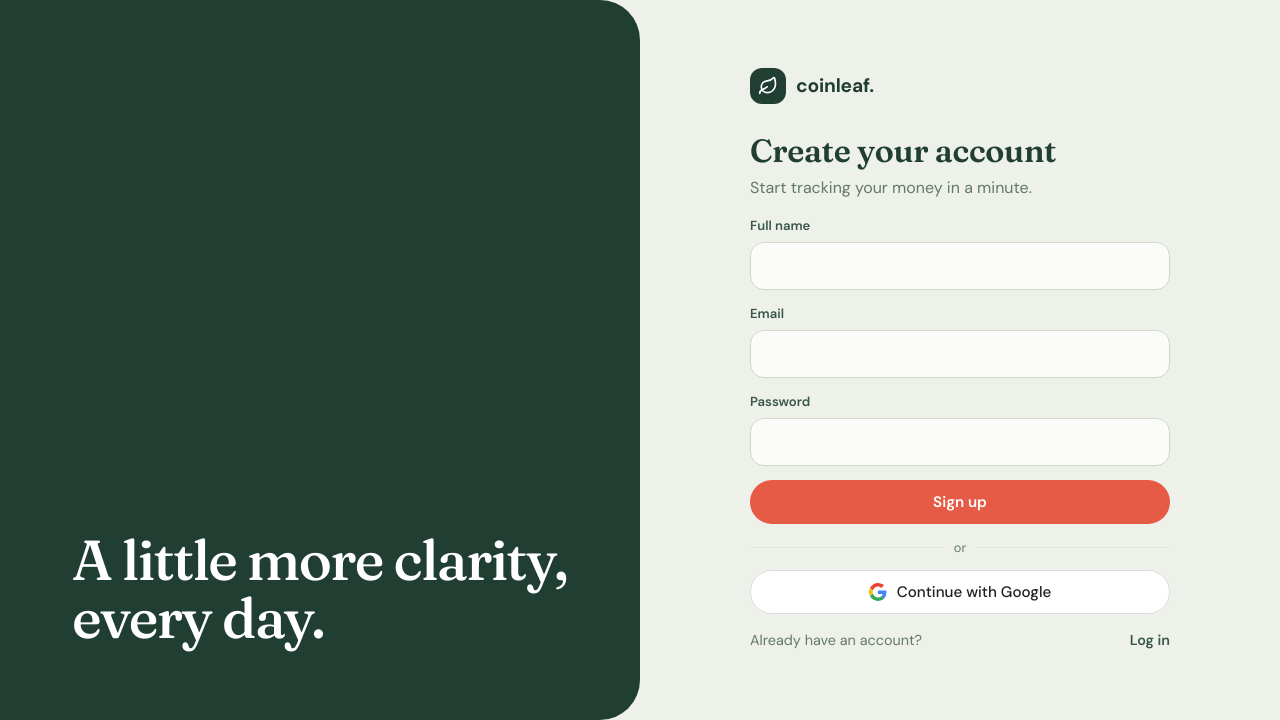
Test: signup › shows an error
The image size is (1280, 720).
Type "Ayesha Khan" into the field labelled "Full name". click: (960, 266)
box: [750,242,1170,290]
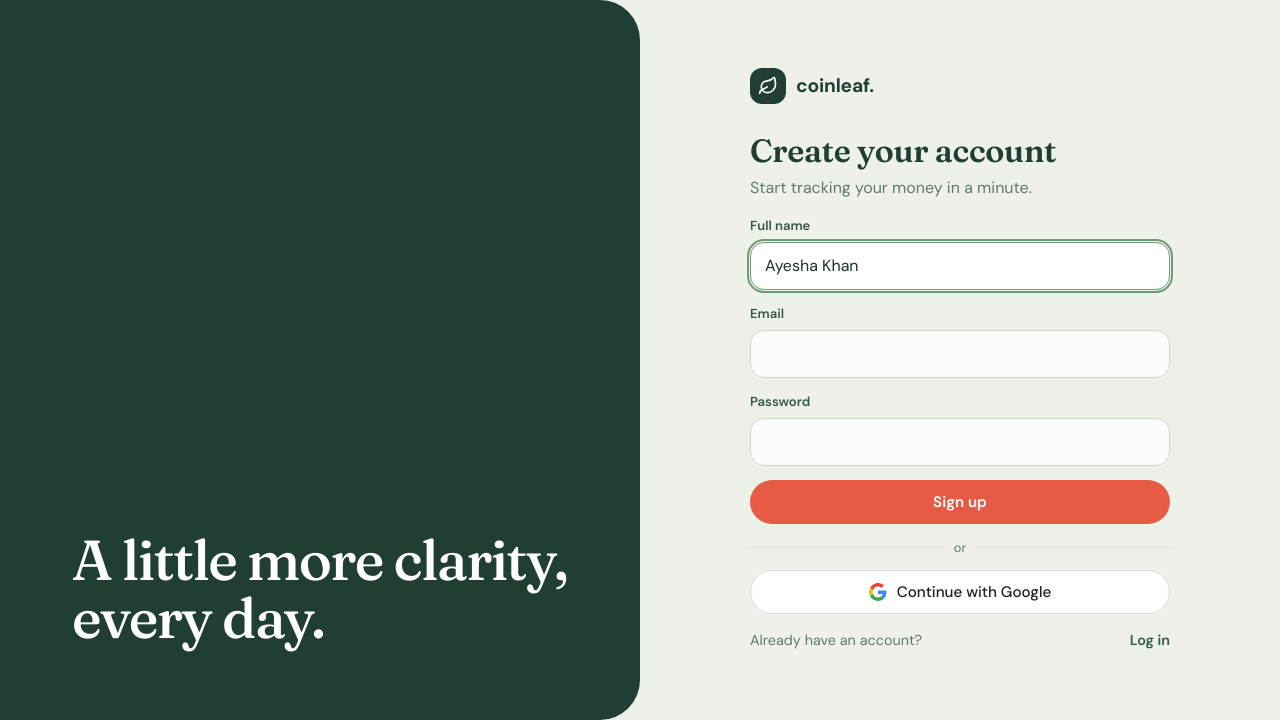
Type "a@b.co" into the field labelled "Email". click: (960, 354)
box: [750,330,1170,378]
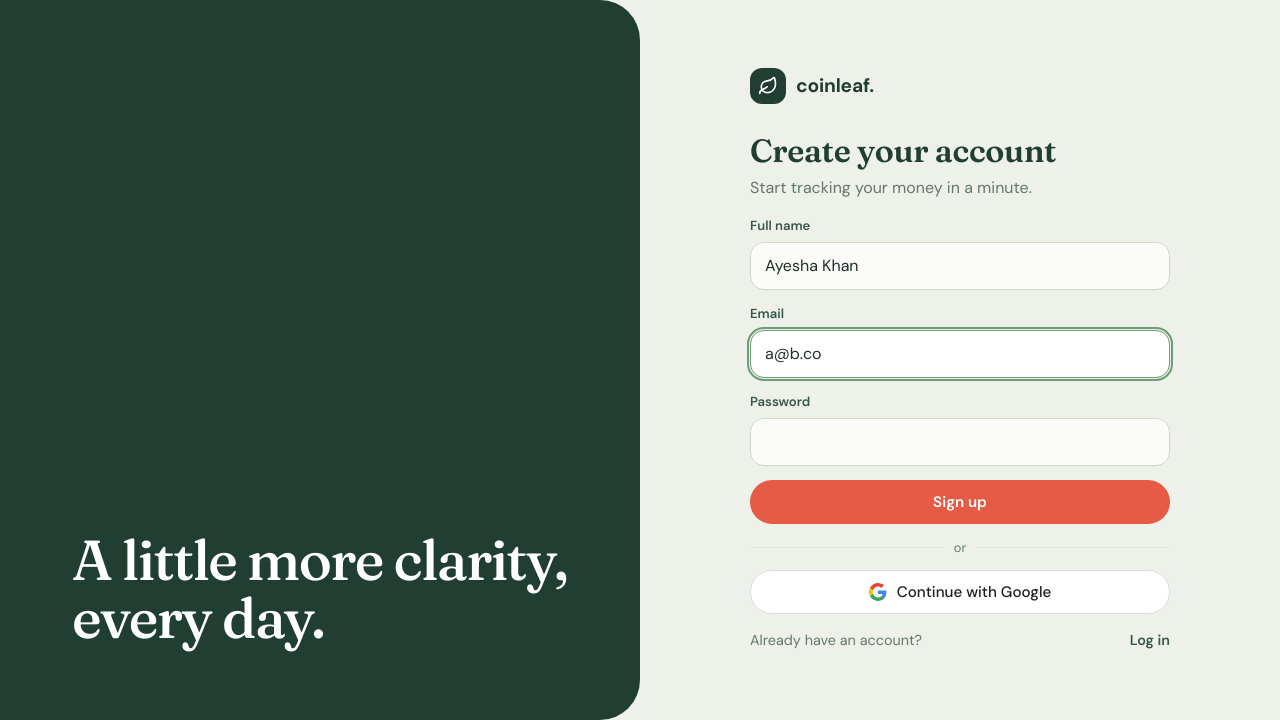
Type "long-enough-pw" into the password field labelled "Password". click: (960, 442)
box: [750,418,1170,466]
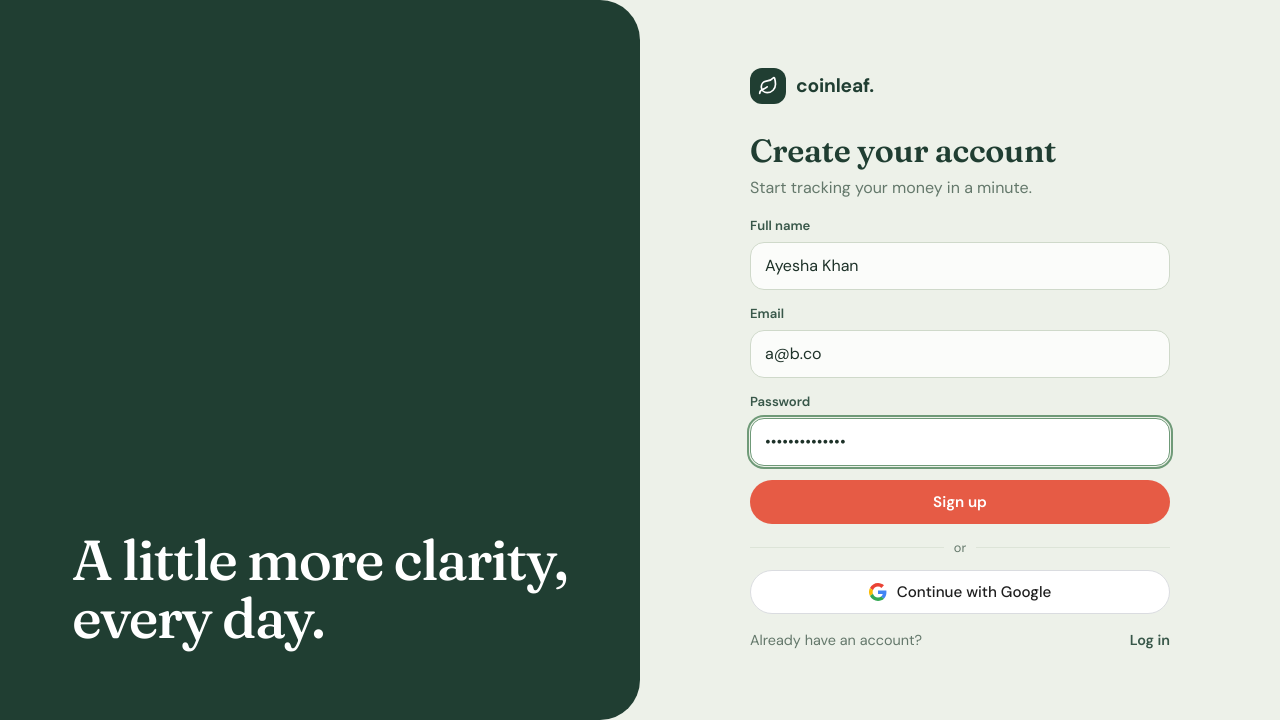
Click the button "Sign up". click: (960, 502)
box: [750,480,1170,524]
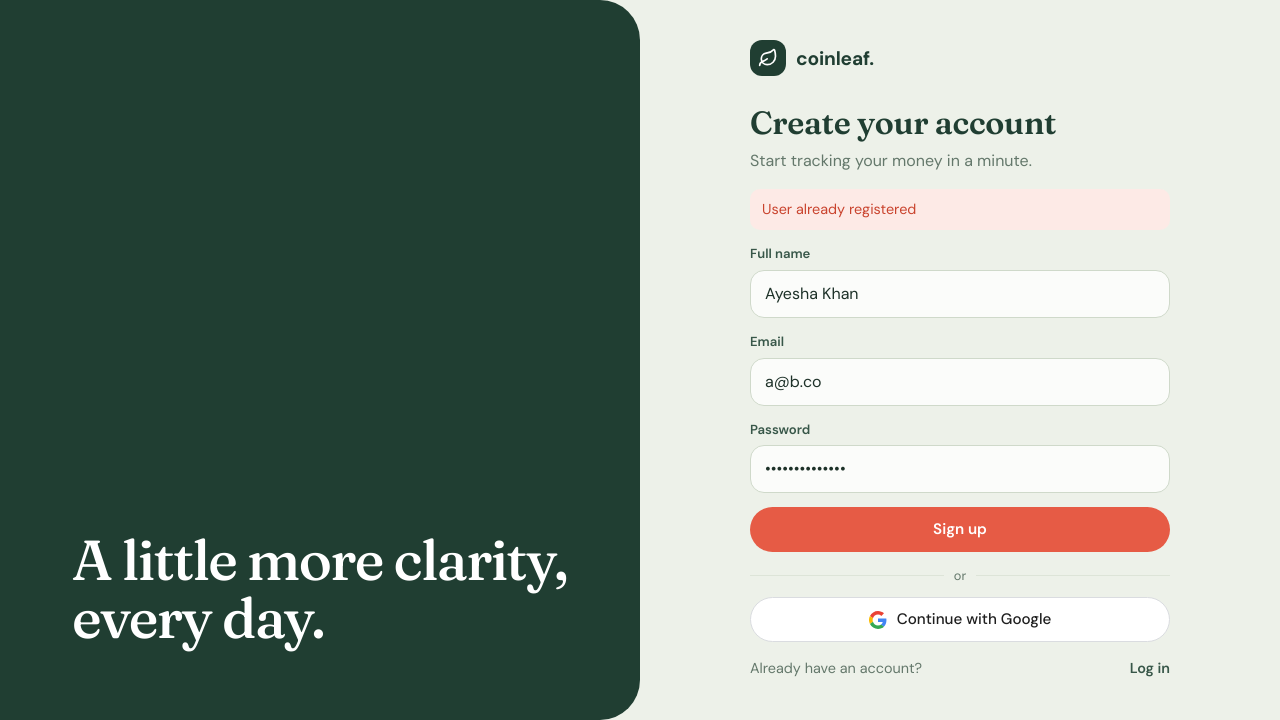
Result: the text "User already registered" is shown at [750,189,1170,230]
